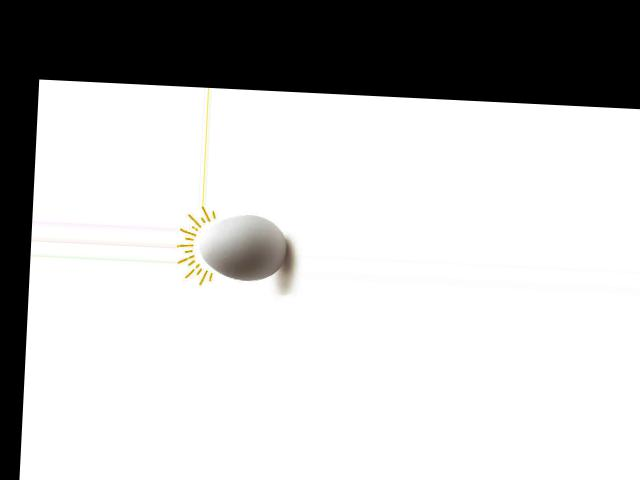egg: (199, 211, 288, 282)
